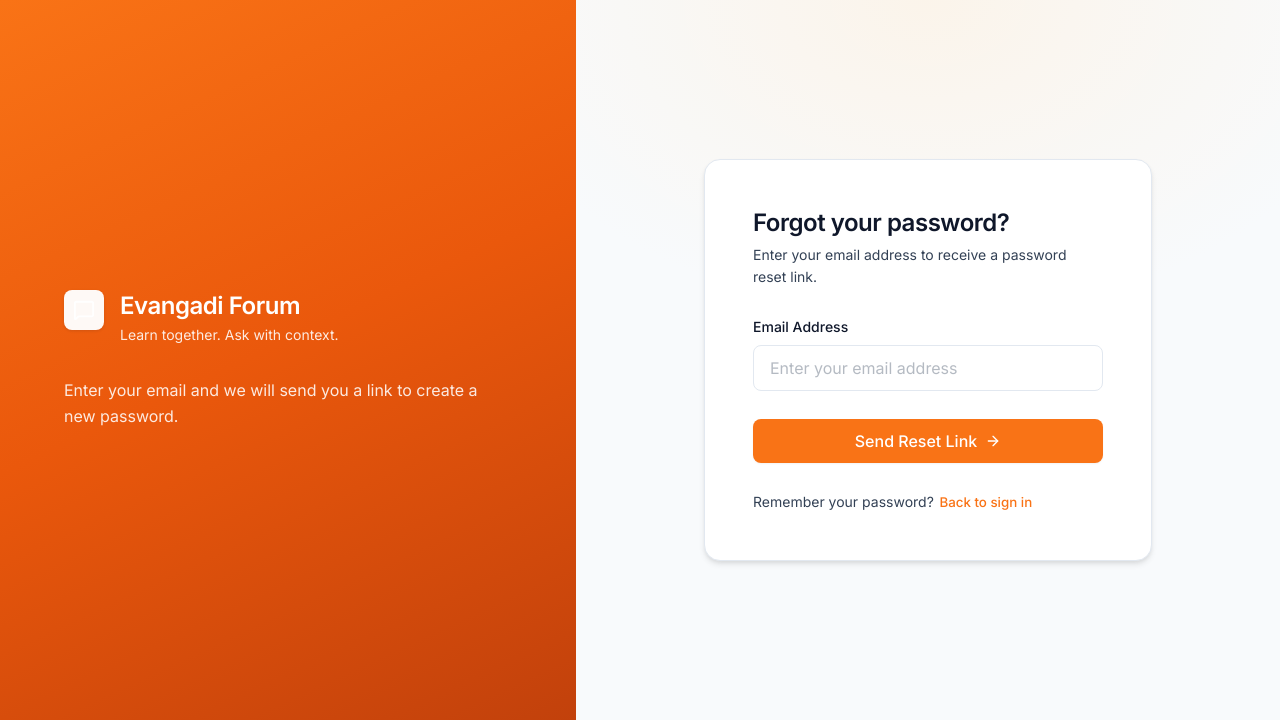
forgot-password normalizes an email and displays the generic server response
Type "LEARNER@EXAMPLE.COM" into the field labelled "Email Address" at (928, 368), box [753, 345, 1103, 391]
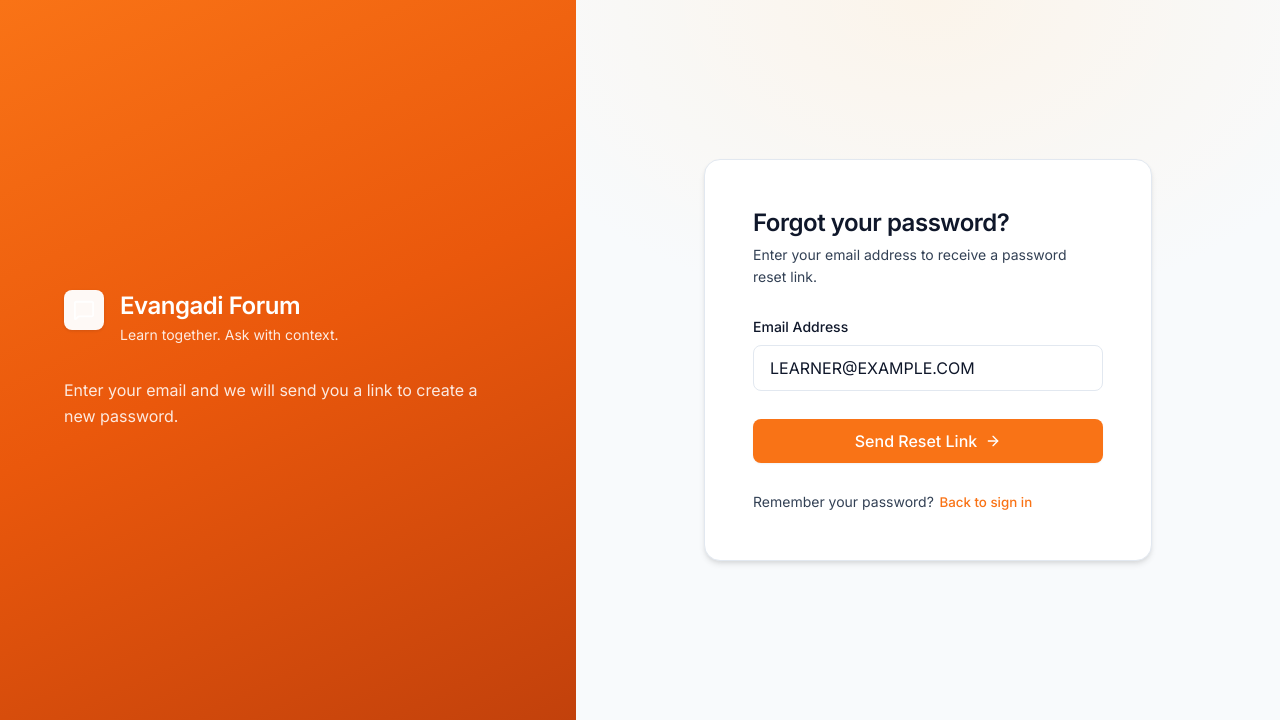
Click the button "Send Reset Link" at (928, 441), box [753, 419, 1103, 463]
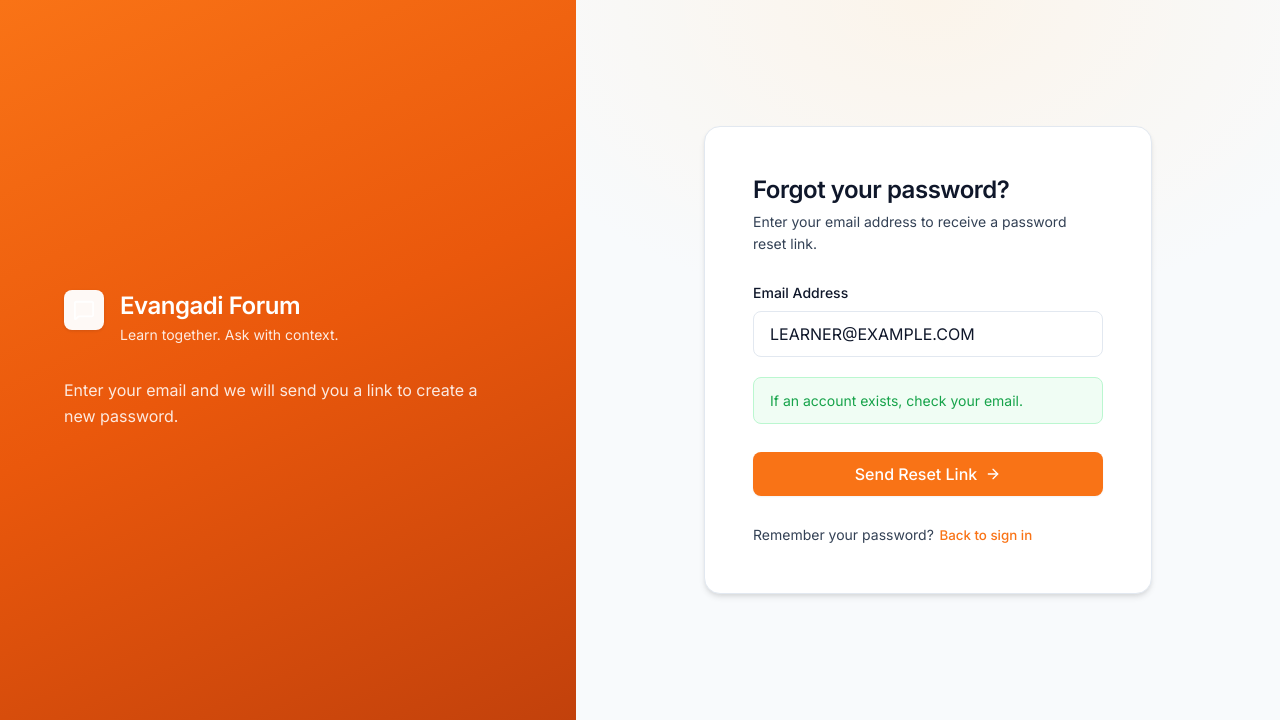
expect the message shows "If an account exists": met, box [770, 392, 1023, 409]
